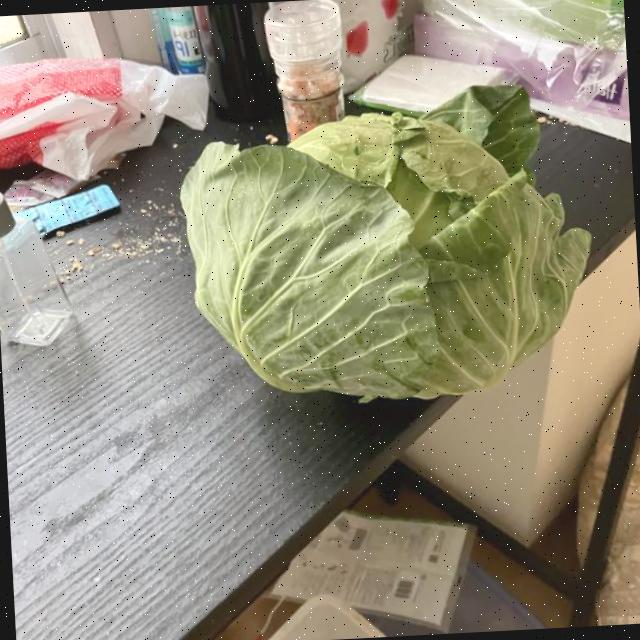cabbage: (171, 75, 604, 418)
